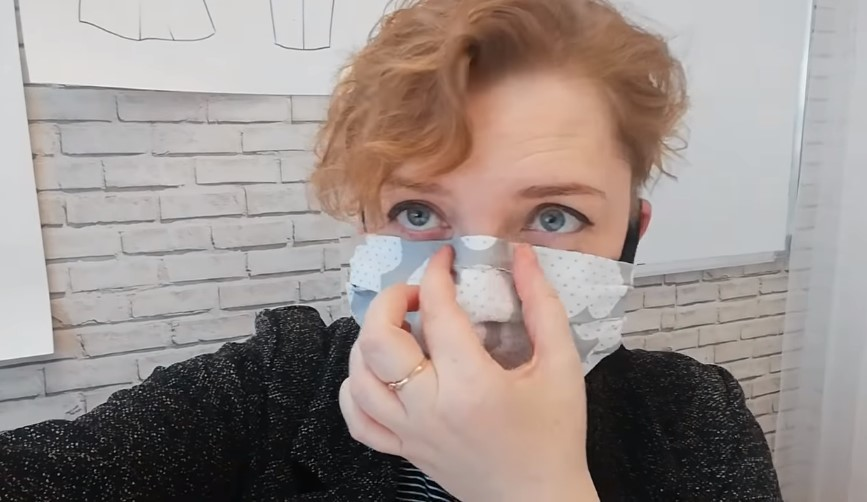face_with_mask: (340, 6, 656, 423)
